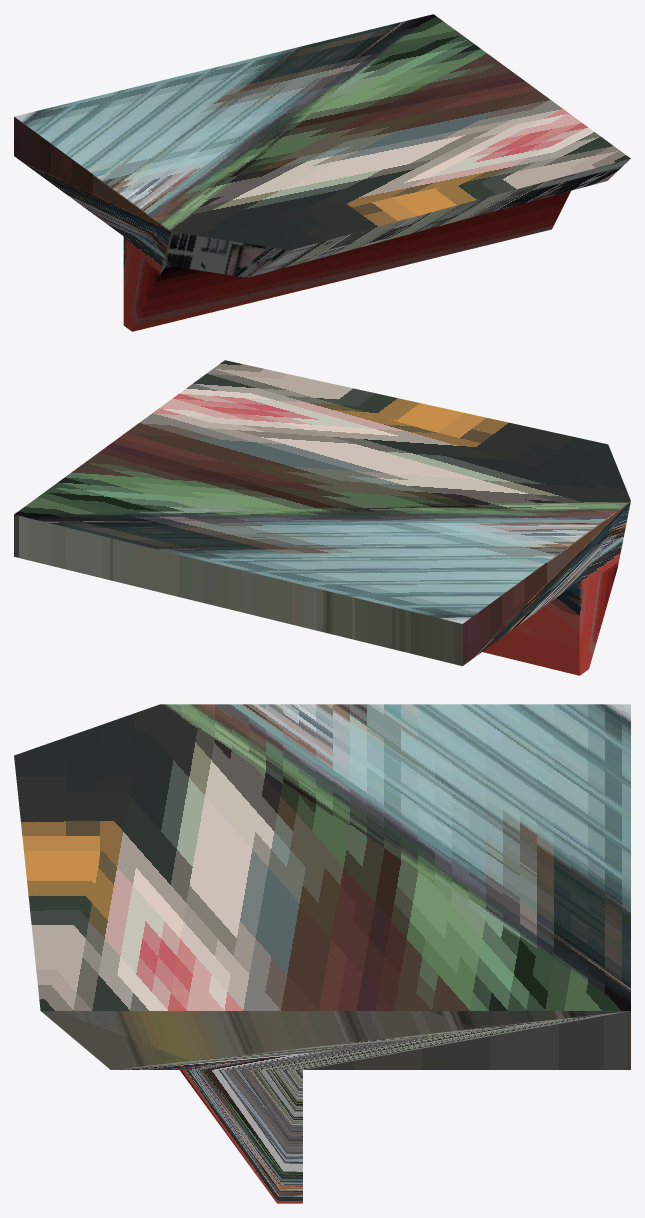
File: 072_lowrise2Wall_cell_009.gltf
The picture shows the model from 3 angles, top to bottom: view 1: azimuth 30°, elevation 25°; view 2: azimuth 150°, elevation 25°; view 3: azimuth 270°, elevation 25°; orthographic projection. The views are drawn at different scales.
Visible parts, largest first — view 1: lowrise2Wall_cell_009; view 2: lowrise2Wall_cell_009; view 3: lowrise2Wall_cell_009.
Boxes of the visible parts, x1,y1,x2,y2 form: lowrise2Wall_cell_009: [14, 14, 630, 331]; lowrise2Wall_cell_009: [14, 360, 630, 675]; lowrise2Wall_cell_009: [14, 704, 630, 1203].
Bounding box in the file's own units: 4.09 × 1.2 × 3.48.
Materials: 1 (1 with a texture image).
